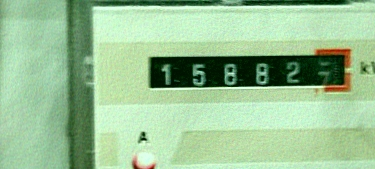1: (160, 62, 174, 87)
2: (286, 59, 302, 85)
5: (191, 62, 207, 87)
7: (317, 69, 331, 85)
8: (222, 62, 239, 86), (254, 60, 270, 85)
screen: (136, 42, 362, 102)
